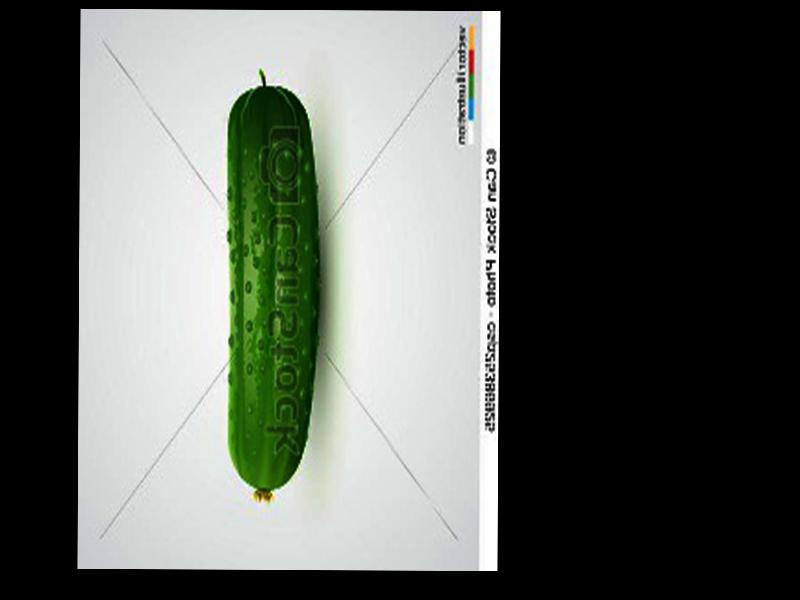Cucumber: (224, 69, 319, 503)
